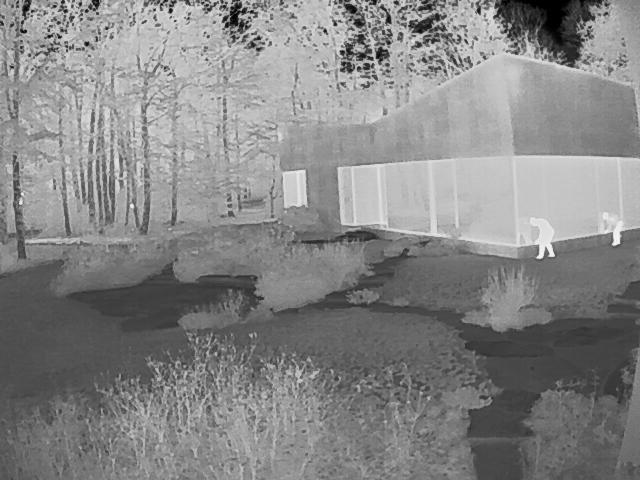person: (529, 215, 559, 261), (601, 210, 626, 250)
